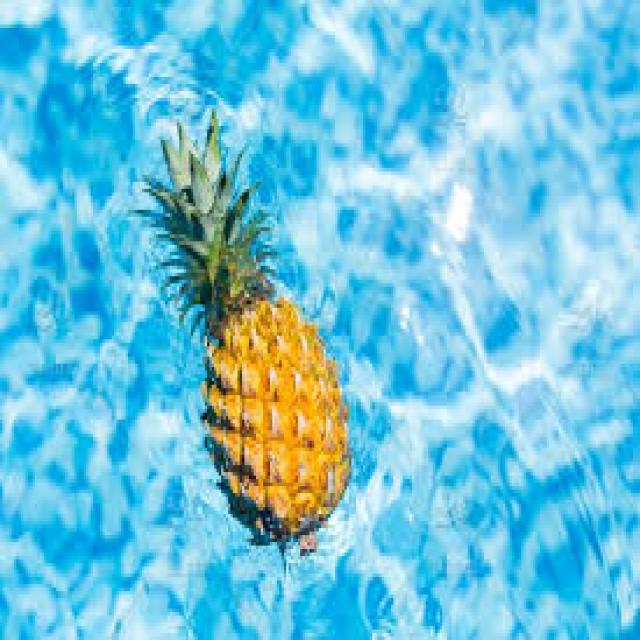pineapple: (137, 129, 361, 566)
